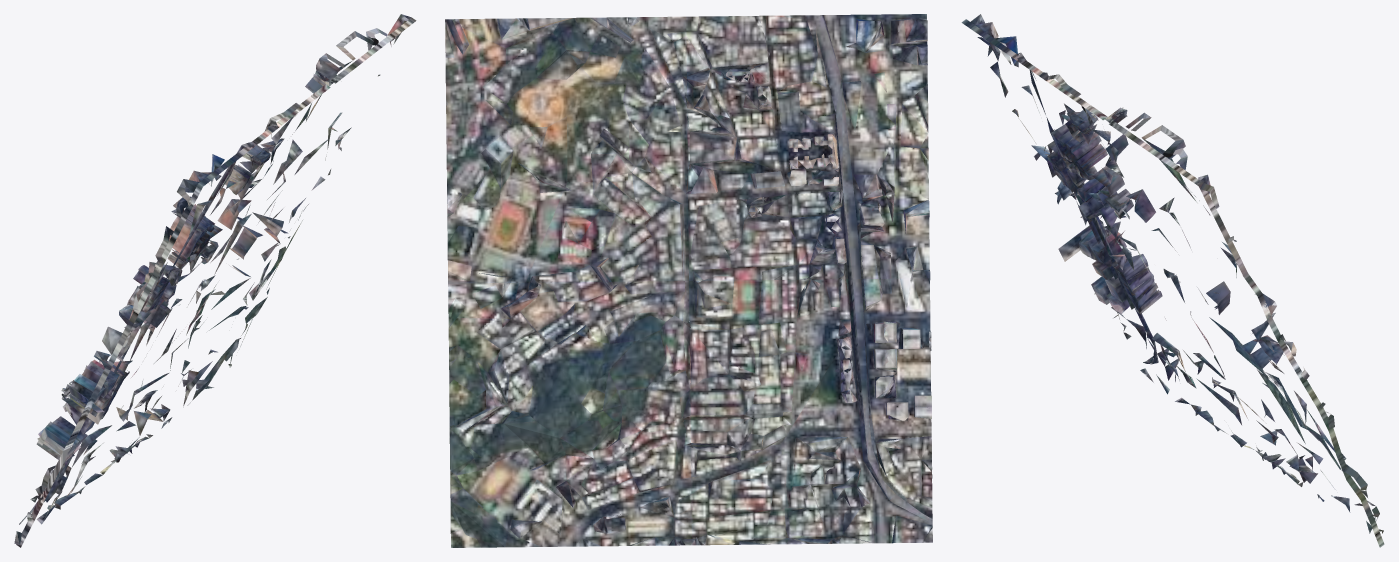
3 views of the same model, side by side, from view 1: azimuth 30°, elevation 25°; view 2: azimuth 150°, elevation 25°; view 3: azimuth 270°, elevation 25° (orthographic). The views are drawn at different scales.
Size of the model in its own units: 1225 by 1137 by 1034.
Materials: 2 (2 with a texture image).
